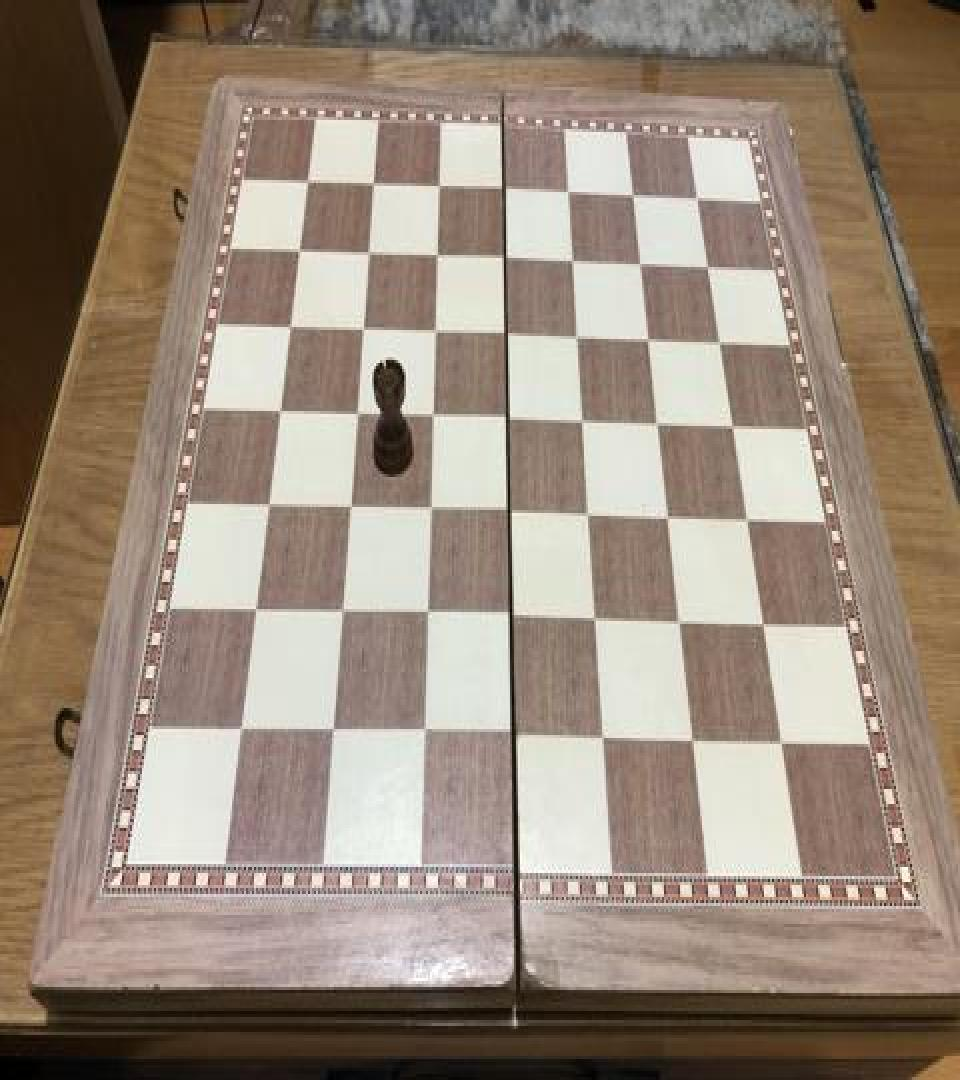xcorner: (685, 180, 709, 216), (621, 178, 645, 214), (557, 176, 581, 212), (492, 174, 516, 210), (427, 171, 451, 207), (362, 170, 386, 206), (297, 166, 321, 202), (696, 249, 720, 285), (628, 246, 652, 282), (561, 244, 585, 280), (493, 242, 517, 278), (425, 240, 449, 276), (357, 238, 381, 274), (288, 236, 312, 272), (707, 324, 731, 360), (637, 322, 661, 358), (566, 320, 590, 356), (494, 318, 518, 354), (423, 315, 447, 351), (351, 314, 375, 350), (279, 312, 303, 348), (720, 408, 744, 444), (646, 406, 670, 442), (571, 404, 595, 440), (496, 402, 520, 438), (420, 399, 444, 435), (344, 398, 368, 434), (268, 396, 292, 432), (735, 501, 759, 537), (656, 500, 680, 536), (577, 498, 601, 534), (497, 495, 521, 531), (417, 494, 441, 530), (337, 492, 361, 528), (256, 489, 280, 525), (751, 606, 775, 642), (667, 604, 691, 640), (583, 603, 607, 639), (499, 600, 523, 636), (414, 598, 438, 634), (329, 597, 353, 633), (243, 594, 267, 630), (769, 724, 793, 760), (680, 723, 704, 759), (590, 722, 614, 758), (500, 720, 524, 756), (410, 717, 434, 753), (319, 716, 343, 752), (228, 714, 252, 750)
